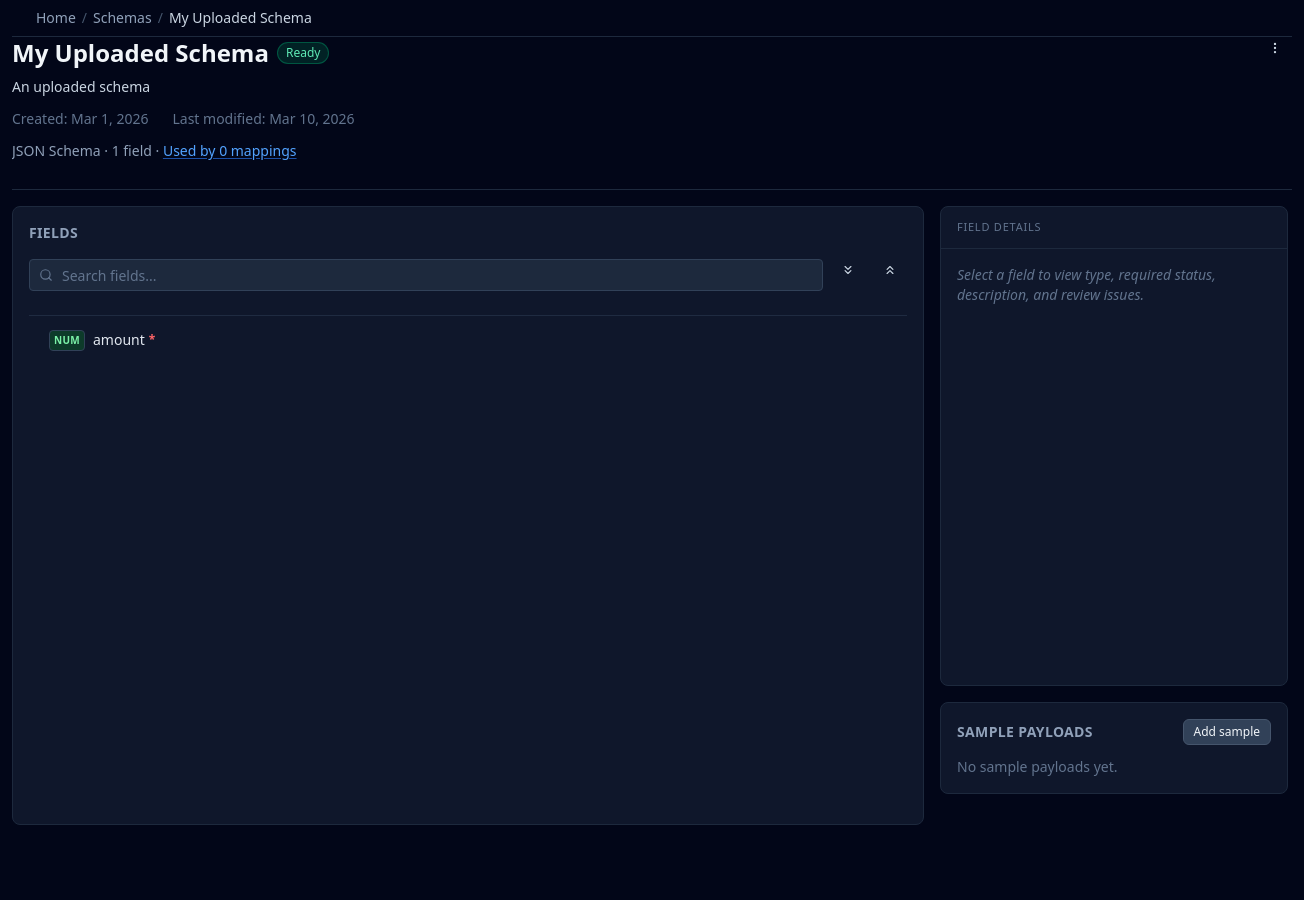
Test: SchemaDetailPage › field details uses tree-consistent type badge colors and required-yes red badge
This screenshot has width=1304, height=900.
Expected: the element with test id "schema-detail-tree" is shown, [12, 206, 924, 825]
Click the list item "NUM amount *" at x=102, y=340, box [49, 330, 155, 350]
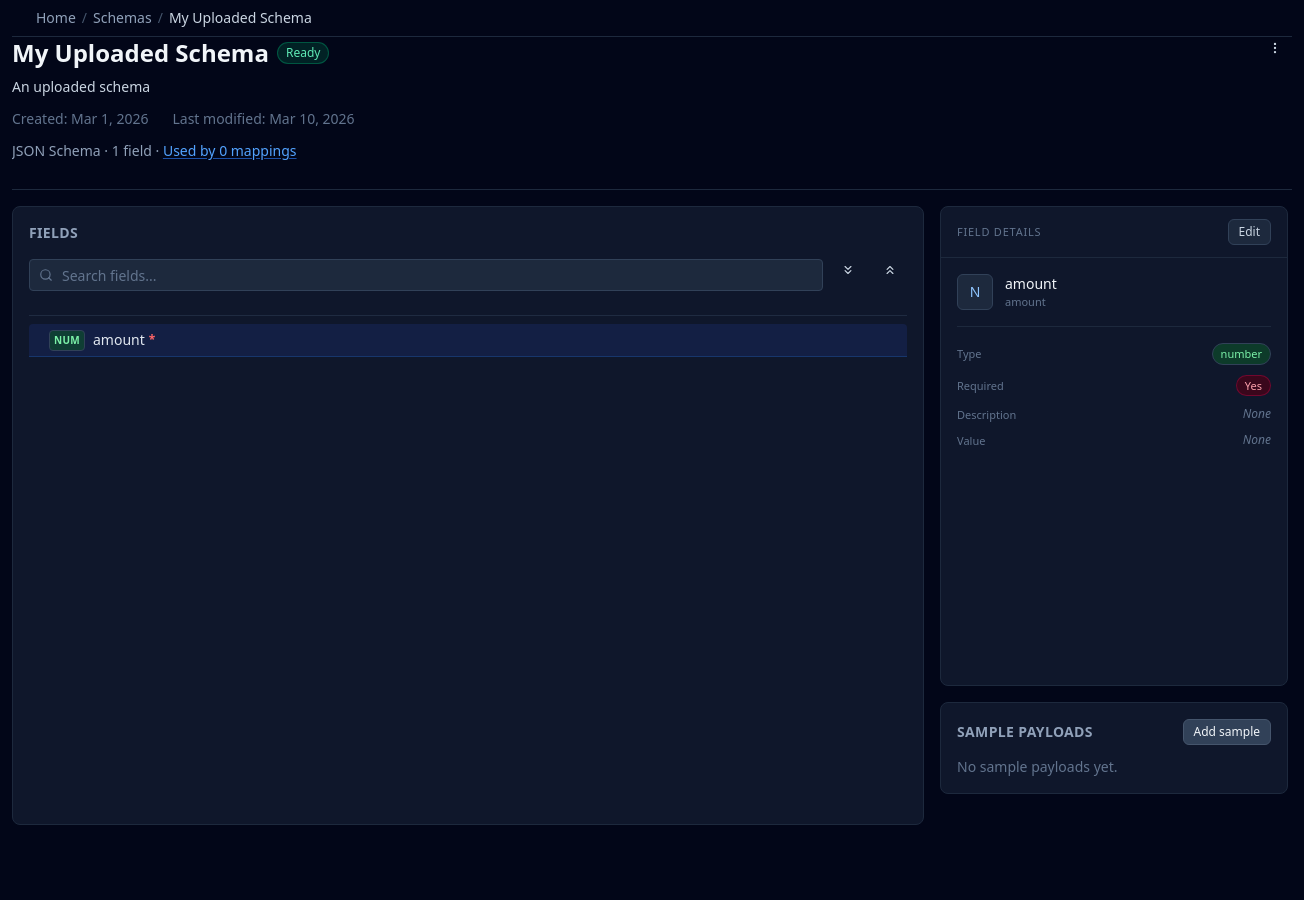
Expected: the text with test id "field-details-required" reads "Yes", [1245, 378, 1262, 393]
